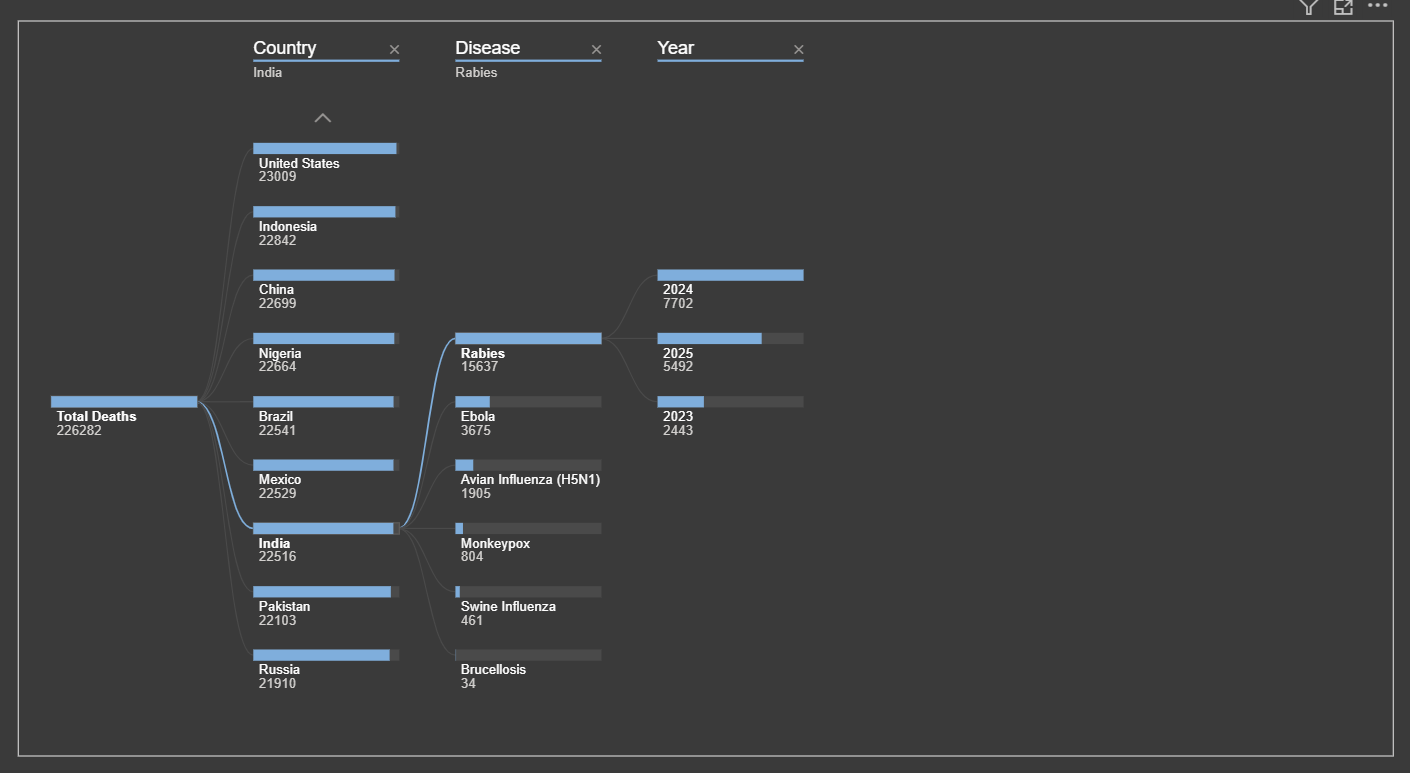

What the dashboard file says about the page in this screenshot:
{"tool":"powerbi","page":{"name":"Page 5","canvas":[1280,720],"ordinal":4},"visuals":[{"type":"decompositionTreeVisual","fields":{"Analyze":["zoonotic_disease_data_20250823_150248.Total Deaths"],"ExplainBy":["zoonotic_disease_data_20250823_150248.Country","zoonotic_disease_data_20250823_150248.Disease","zoonotic_disease_data_20250823_150248.Year"]},"box":[30,32.9,1225.7,655.7],"z":0}]}

Visuals, with their boxes in screenshot pixels (x1, y1, x2, y2), scaled from the page's 1280x720 canvas onto the 1410x773 screenshot:
decompositionTreeVisual - zoonotic_disease_data_20250823_150248.Total Deaths x zoonotic_disease_data_20250823_150248.Country: Rect(33, 35, 1383, 739)
